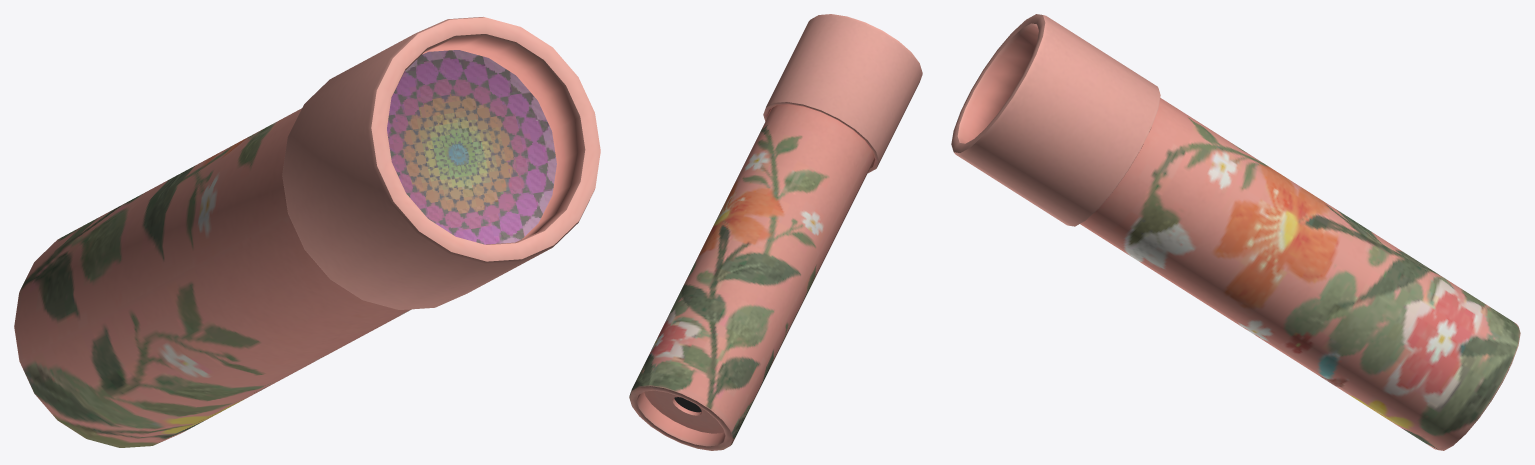
File: ref_gtkaleidoscope.fbx
3 views of the same model, side by side, from view 1: azimuth 30°, elevation 25°; view 2: azimuth 150°, elevation 25°; view 3: azimuth 270°, elevation 25° (orthographic). The views are drawn at different scales.
Parts seen in each view (by area): view 1: ref_gtkaleidoscope; view 2: ref_gtkaleidoscope; view 3: ref_gtkaleidoscope.
Boxes of the visible parts, left/top/right/bottom form: ref_gtkaleidoscope: left=14, top=17, right=600, bottom=447; ref_gtkaleidoscope: left=629, top=14, right=922, bottom=450; ref_gtkaleidoscope: left=951, top=14, right=1520, bottom=450.
Bounding box in the file's own units: 29.15 × 81.46 × 100.
1 material, 1 textured.
